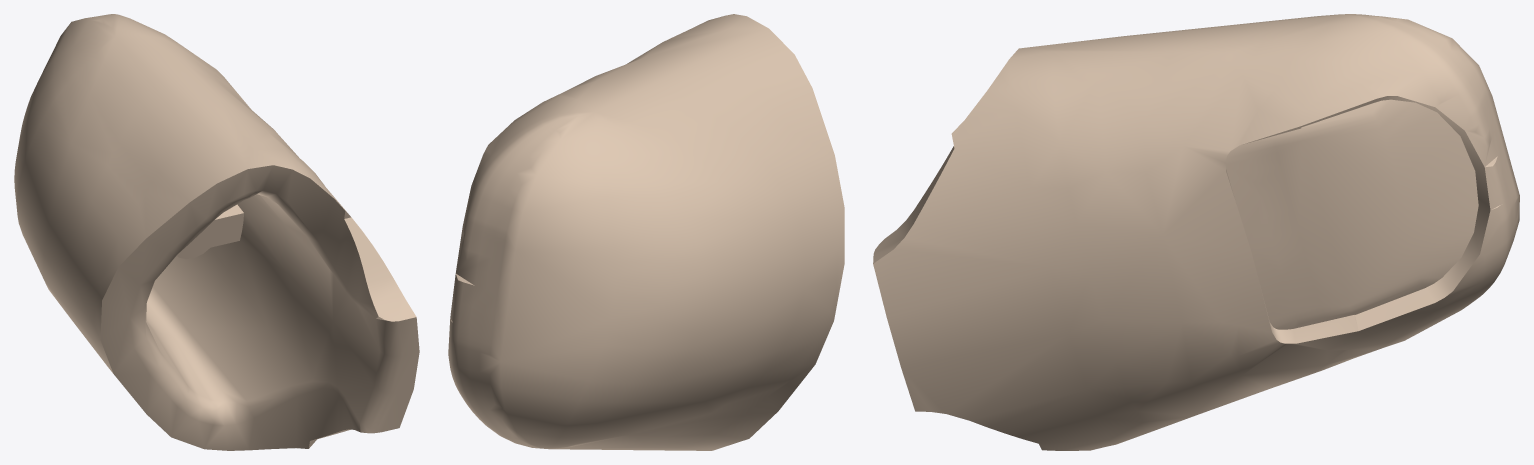
Rendered from l_hand_D_L_1.obj.
3 views of the same model, side by side, from view 1: azimuth 30°, elevation 25°; view 2: azimuth 150°, elevation 25°; view 3: azimuth 270°, elevation 25° (orthographic). The views are drawn at different scales.
Bounding box in the file's own units: 14.61 × 21.9 × 30.84.
